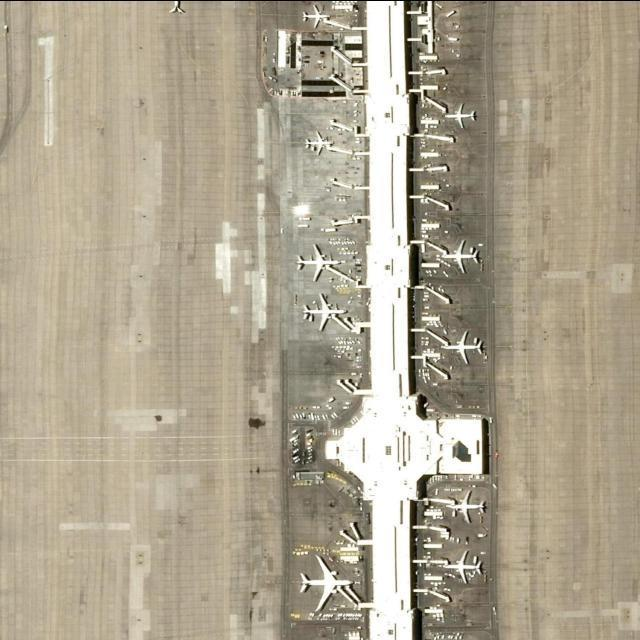Aircraft: (298, 553, 354, 613), (298, 294, 346, 332), (295, 243, 340, 282), (449, 488, 489, 527), (444, 330, 484, 366), (444, 239, 484, 274), (446, 550, 484, 585), (443, 103, 478, 131), (297, 4, 331, 32), (304, 129, 336, 157)
